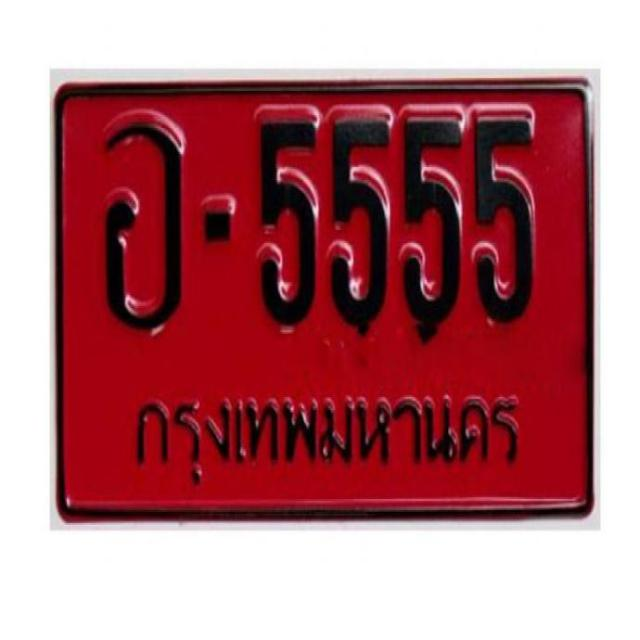5: (399, 106, 460, 339), (471, 104, 534, 324), (327, 107, 388, 330), (257, 106, 314, 324)
A43: (100, 111, 183, 332)
BKK: (122, 373, 529, 494)
